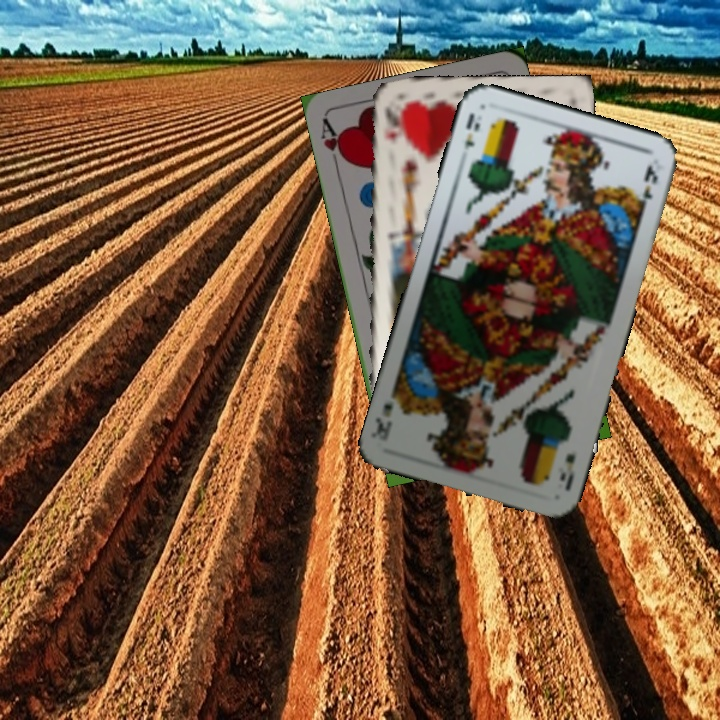EK: (555, 449, 578, 493), (460, 109, 483, 152)
HA: (316, 116, 350, 175)
HK: (380, 102, 400, 147)
